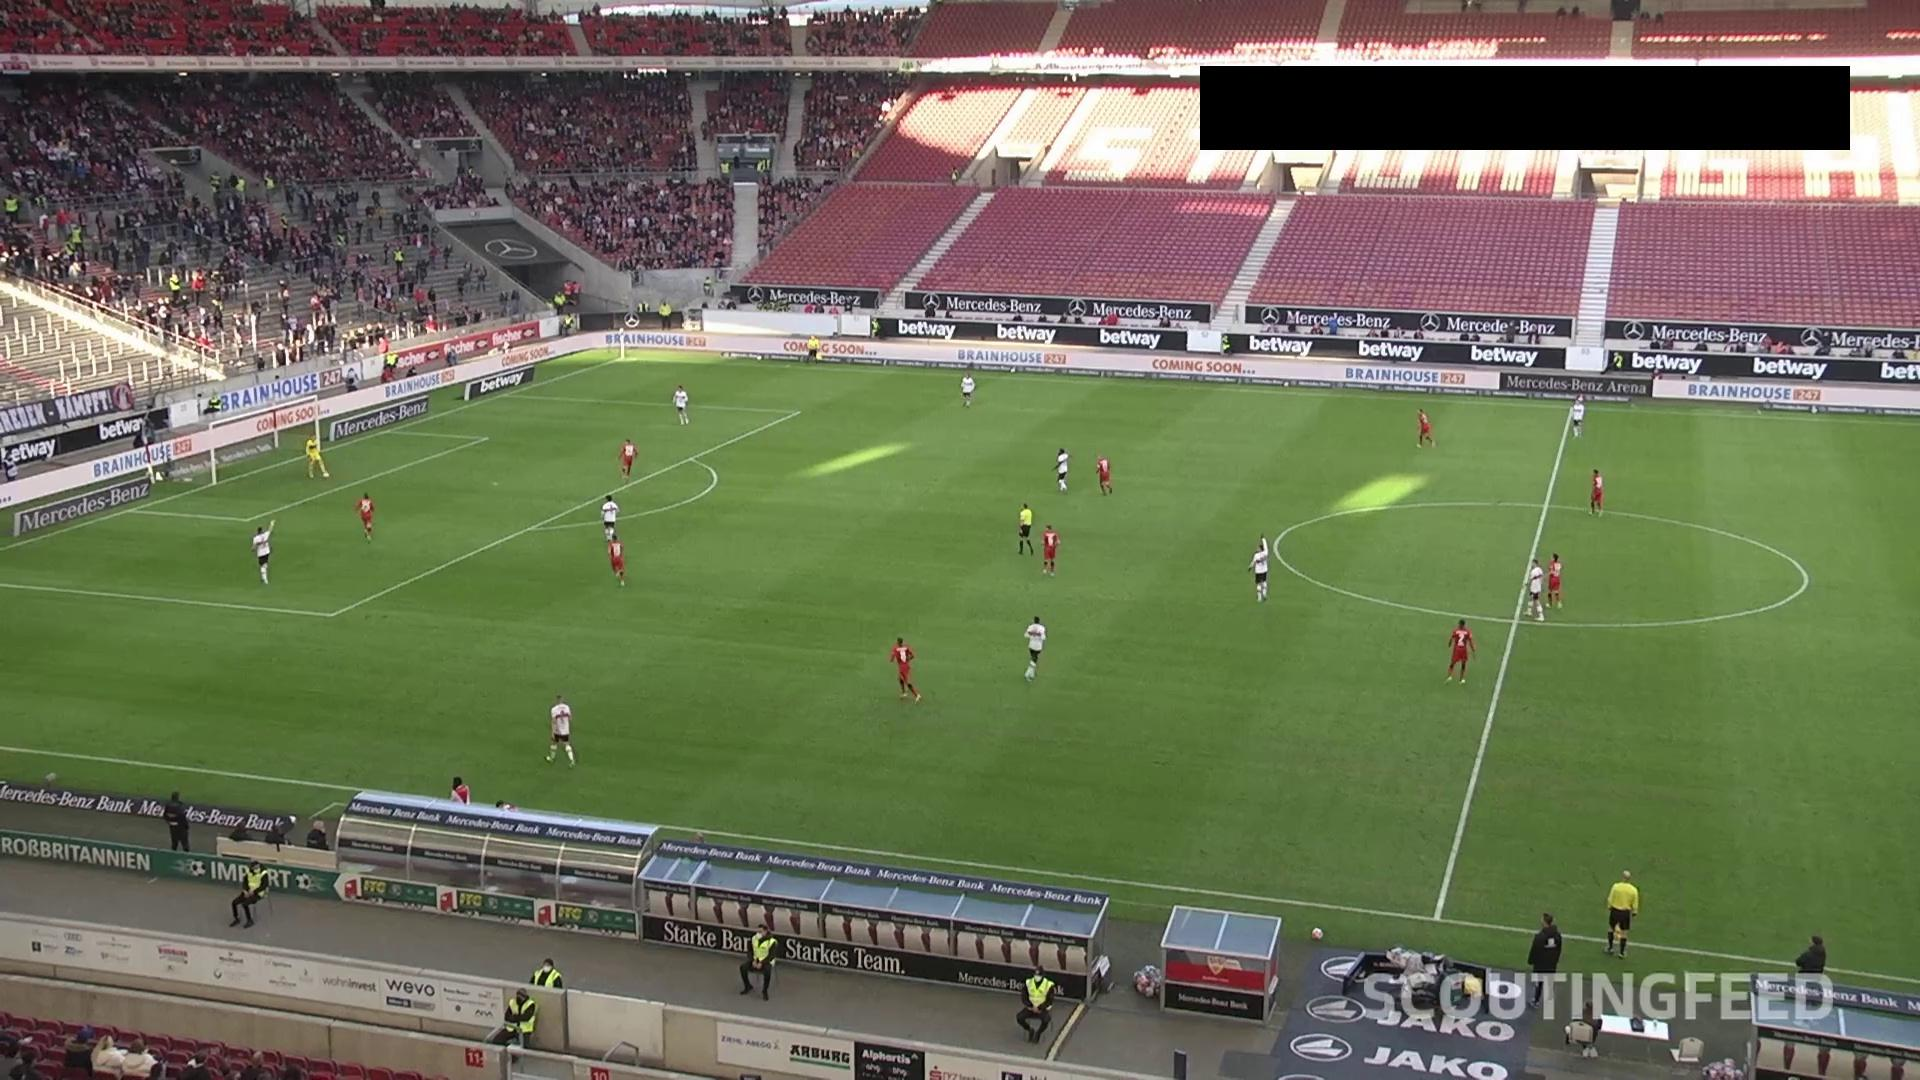Location-of-ball: (322, 462, 339, 487)
